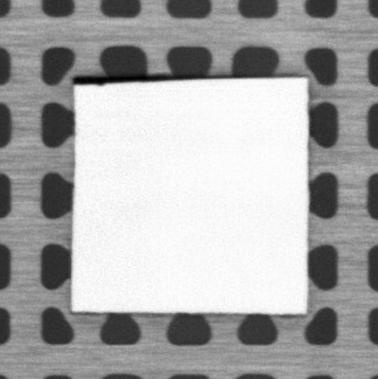DIE_BROKEN: (70, 74, 246, 86)
